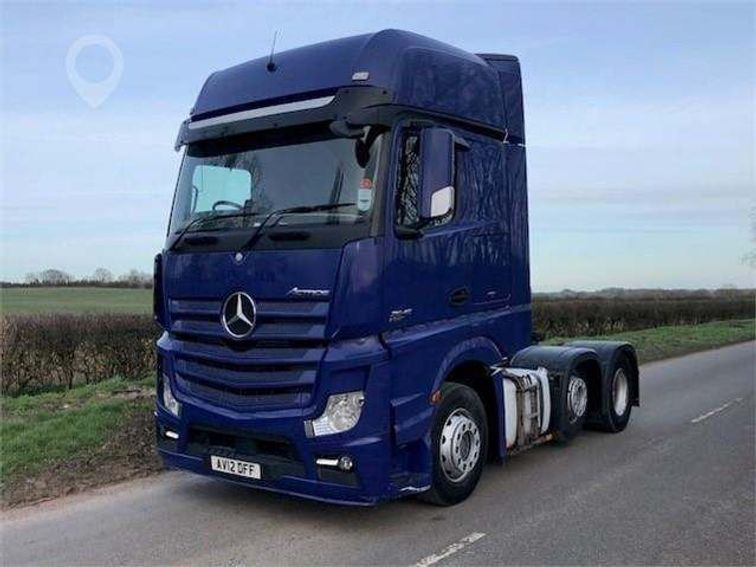Semi: (152, 28, 639, 508)
